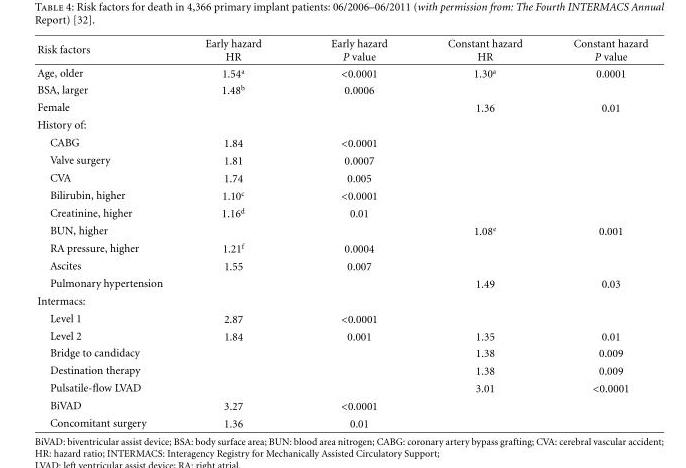table: (36, 37, 647, 429)
table column: (36, 37, 183, 429), (416, 37, 547, 429), (295, 37, 416, 429), (183, 37, 295, 429), (547, 37, 647, 429)
table column header: (36, 37, 647, 64)
table projected row header: (36, 115, 647, 133), (36, 292, 647, 309)
table row: (36, 37, 647, 64), (36, 115, 647, 133), (36, 133, 647, 151), (36, 168, 647, 186), (36, 186, 647, 204), (36, 221, 647, 239), (36, 256, 647, 274), (36, 274, 647, 292), (36, 309, 647, 327), (36, 378, 647, 396), (36, 396, 647, 414), (36, 64, 647, 81), (36, 81, 647, 98), (36, 98, 647, 115), (36, 151, 647, 168), (36, 204, 647, 221), (36, 239, 647, 256), (36, 292, 647, 309), (36, 327, 647, 344), (36, 344, 647, 361), (36, 361, 647, 378), (36, 414, 647, 429)
